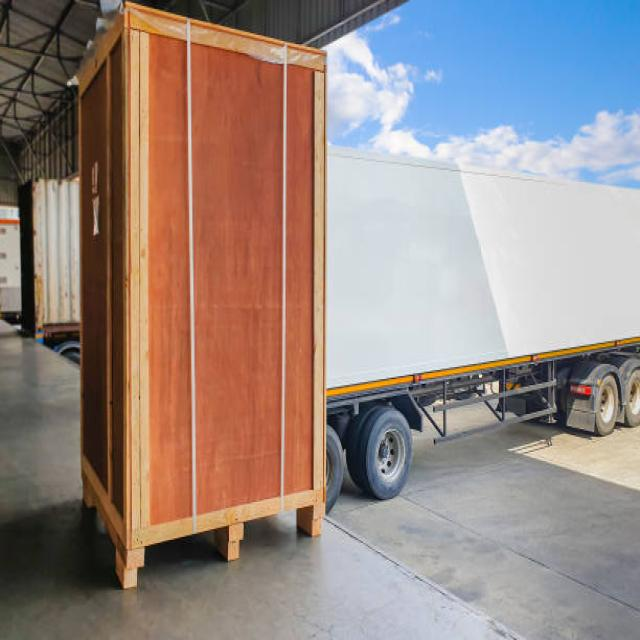Wooden-Pallets: (116, 504, 332, 596)
